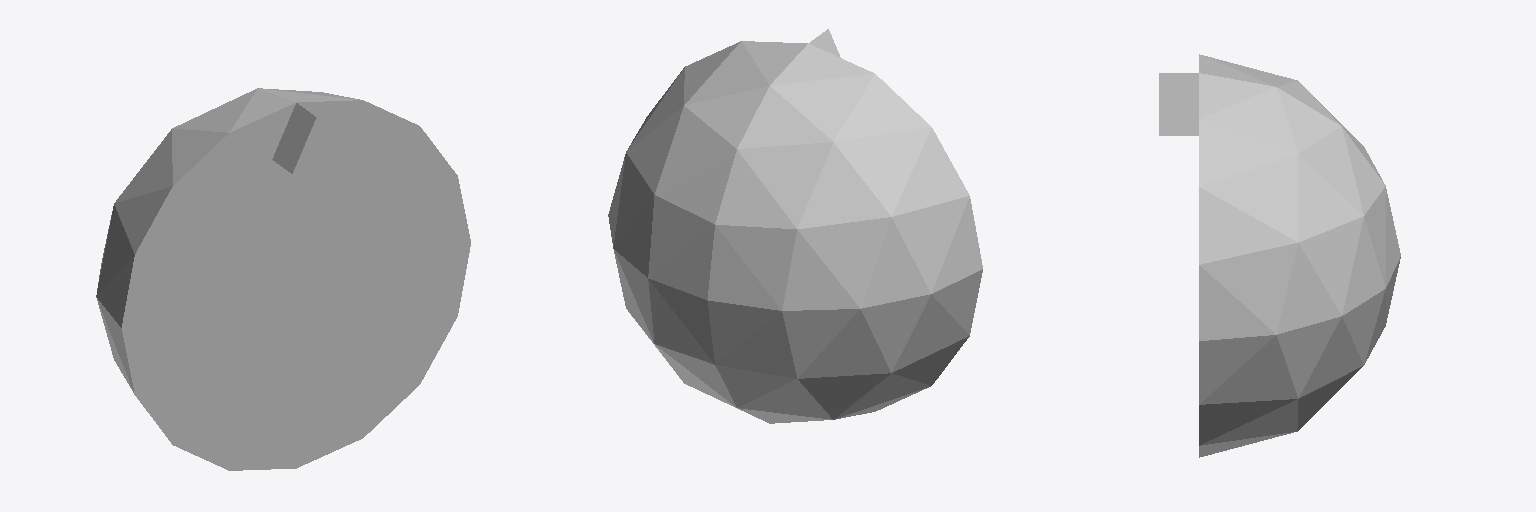
File: node_picking.obj
3 views of the same model, side by side, from view 1: azimuth 30°, elevation 25°; view 2: azimuth 150°, elevation 25°; view 3: azimuth 270°, elevation 25° (orthographic).
Parts seen in each view (by area): view 1: node_picking; view 2: node_picking; view 3: node_picking.
Part boxes in pixels (bbox=[...]): node_picking: bbox=[96, 88, 470, 470]; node_picking: bbox=[608, 29, 982, 423]; node_picking: bbox=[1159, 54, 1400, 457].
Size of the model in its own units: 25 by 25 by 15.